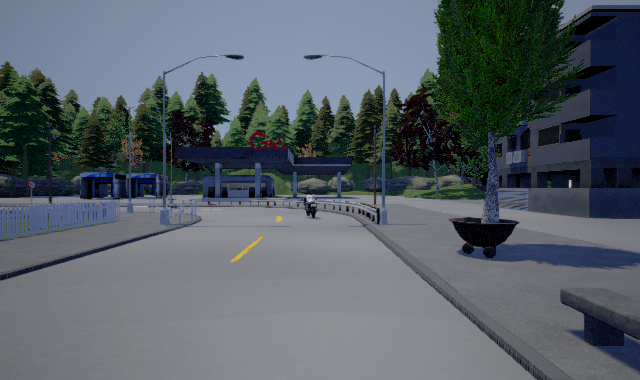bike: (302, 192, 318, 219)
traffic_sign: (28, 181, 35, 189)
